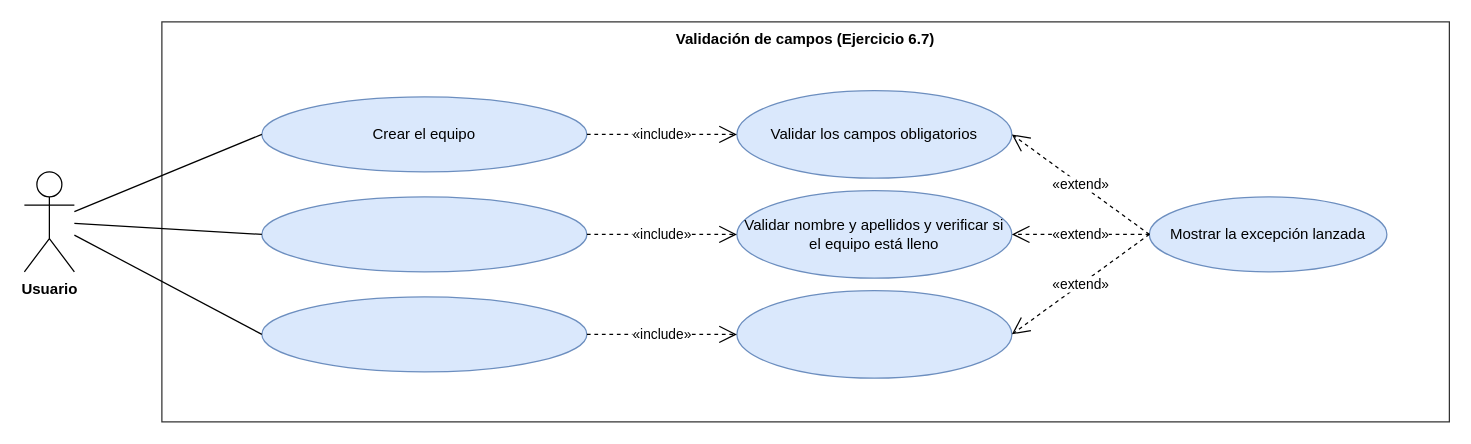
Image size: 1471x444. Some labels were removed from this diagram. Here are the shapes that lost their labels. From the top down, the box of each, then its label:
(261, 196, 587, 272): Añadir un integrante
(261, 296, 587, 372): Registrar el equipo
(736, 289, 1012, 378): Verificar el tamaño mínimo del equipo
